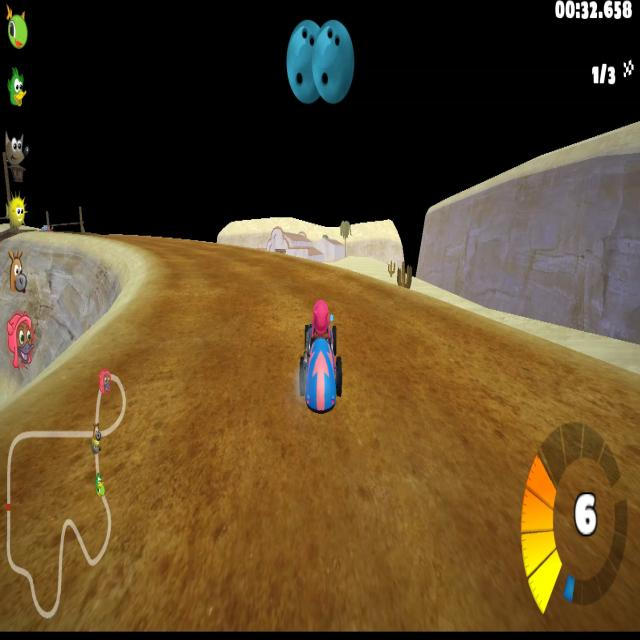player_kart: (297, 306, 343, 417)
track: (298, 417, 640, 632), (141, 277, 297, 640), (0, 409, 139, 628), (345, 306, 519, 420), (519, 362, 640, 414), (87, 306, 141, 412), (147, 250, 300, 282), (302, 258, 364, 300), (366, 280, 429, 308), (96, 231, 178, 252), (48, 363, 86, 405), (179, 231, 223, 254)
